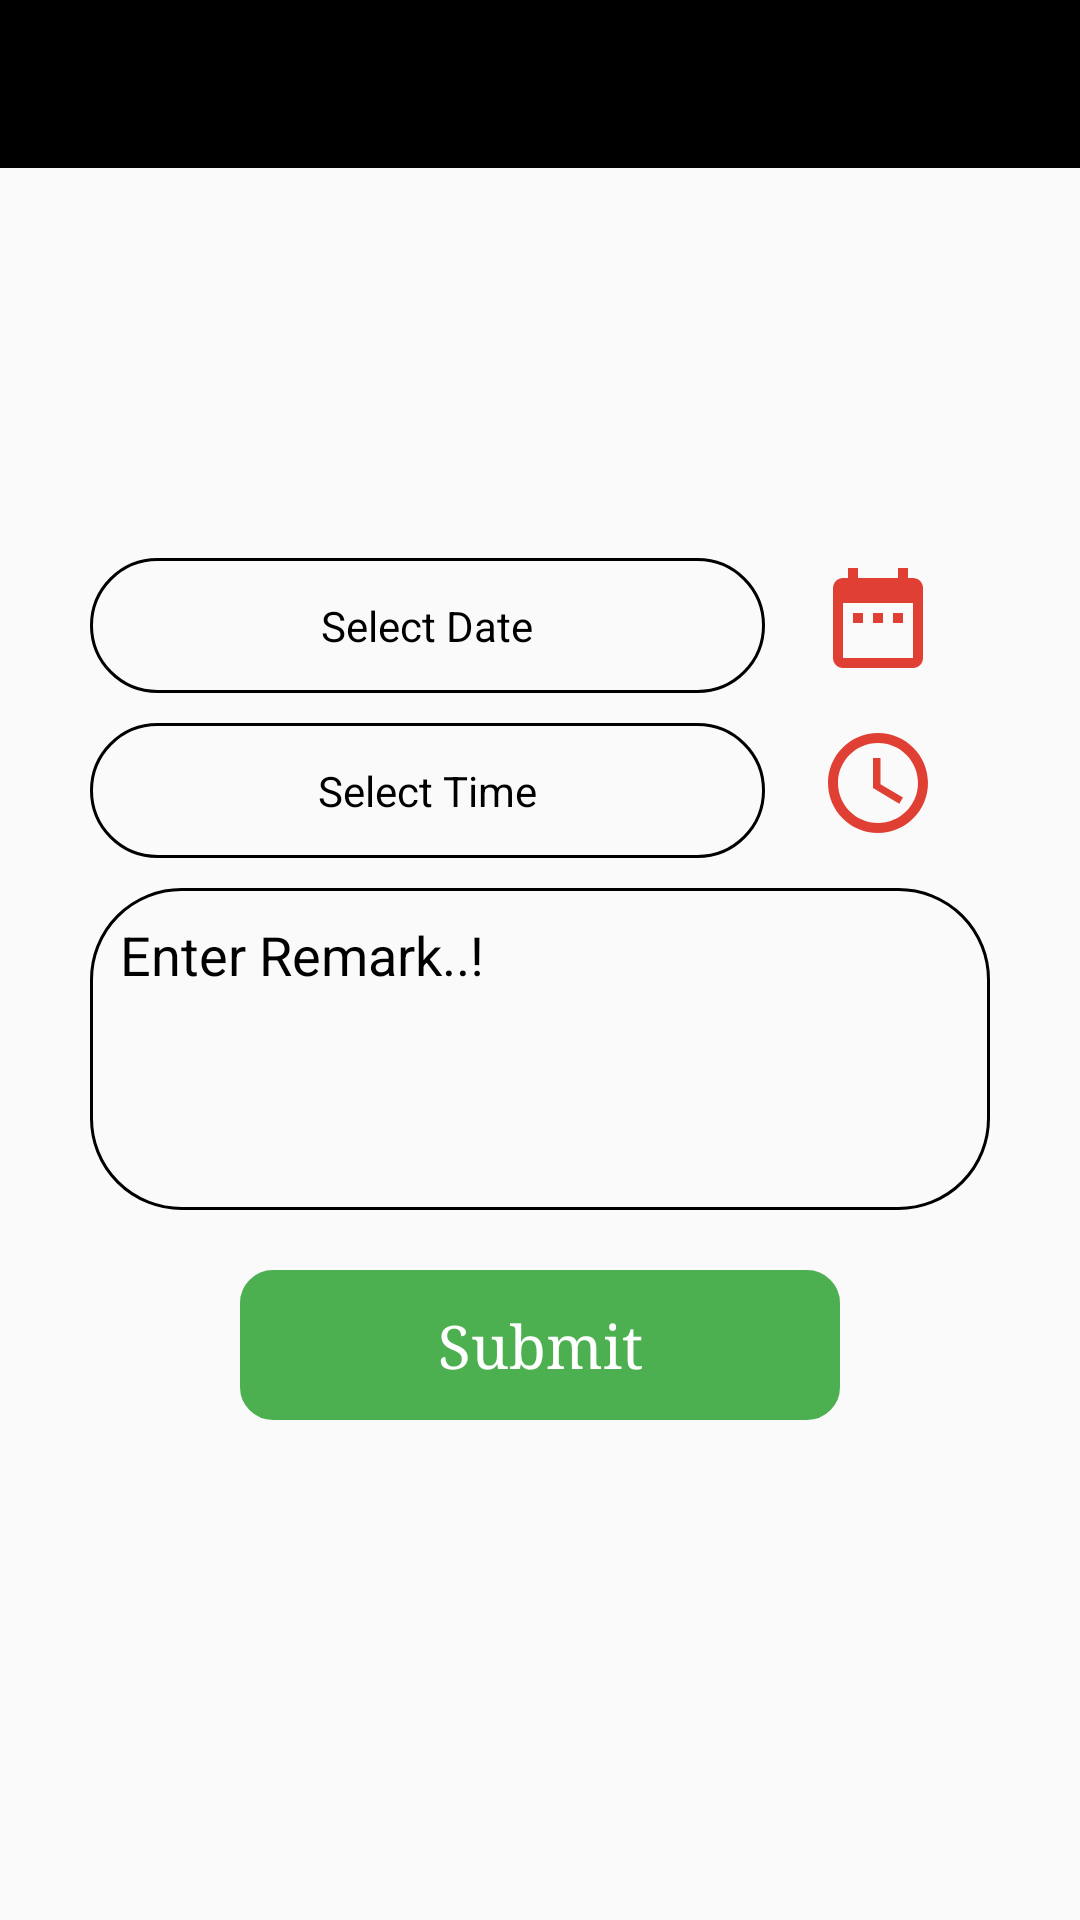

Where to tap for icons on this 1080×1920 app screen, as (x=x, y=y):
access time: (x=878, y=783)
